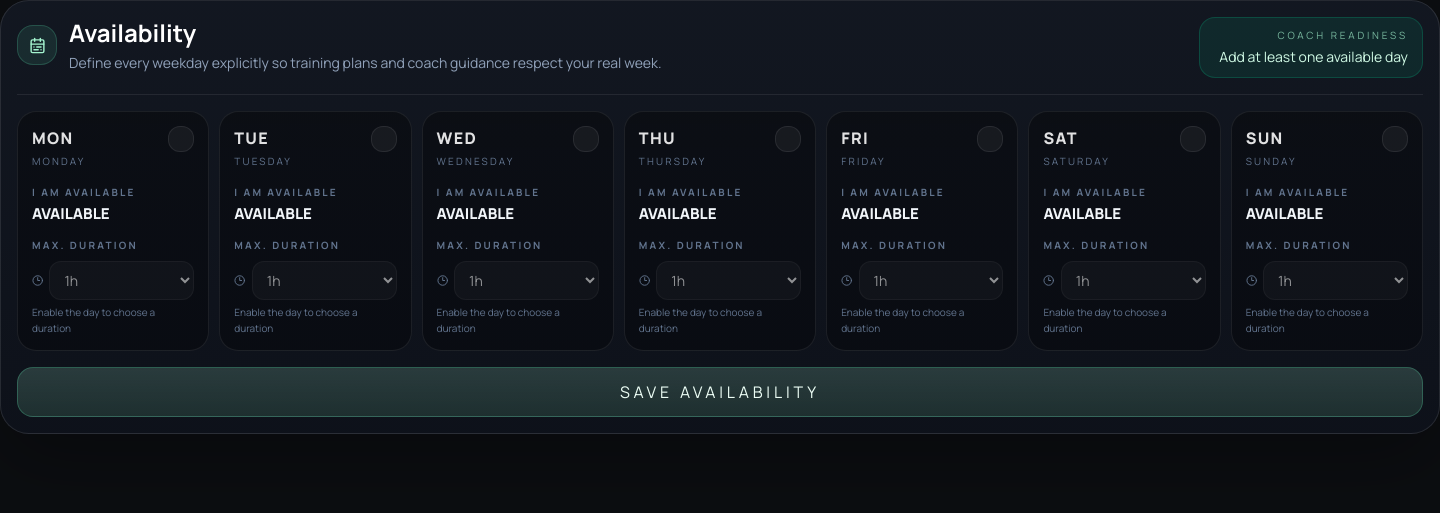
Test: AvailabilityCard › announces save errors to assistive technology
Click the button "Save availability" at (720,392), box [17, 367, 1423, 417]
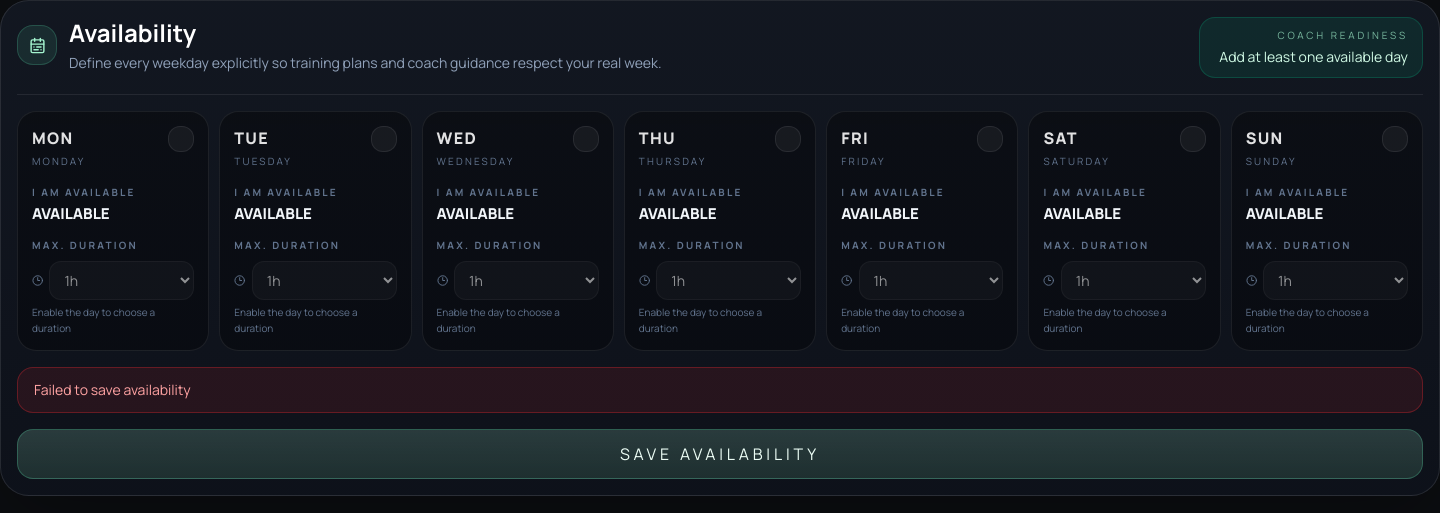
Check: the message reads "Failed to save availability", box [34, 380, 191, 399]
